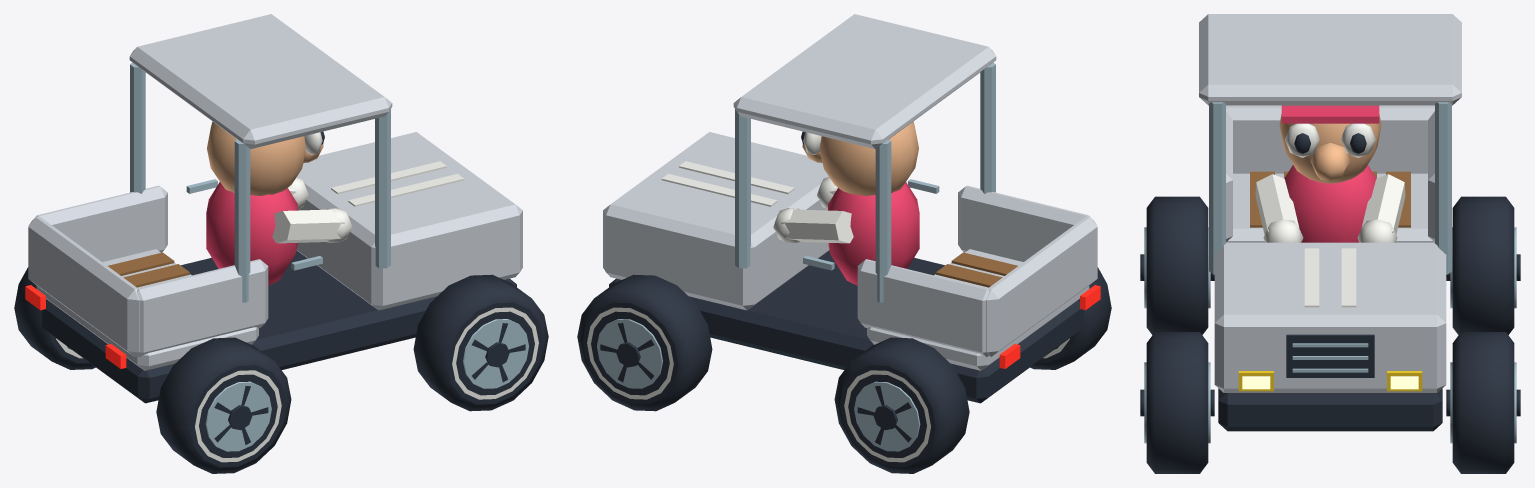
File: kart_1.glb
The picture shows the model from 3 angles, left to right: view 1: azimuth 30°, elevation 25°; view 2: azimuth 150°, elevation 25°; view 3: azimuth 270°, elevation 25°; orthographic projection. The views are drawn at different scales.
Parts seen in each view (by area): view 1: detail_Paint, detail_Rubber, wheel_rr, wheel_fr, detail_Chrome, detail_Coral, detail_Ivory, detail_Peach, wheel_rl, detail_Bed wood, detail_Tail light lens; view 2: detail_Paint, detail_Rubber, wheel_rl, wheel_fl, detail_Chrome, detail_Coral, detail_Ivory, detail_Peach, wheel_rr, detail_Bed wood, detail_Tail light lens; view 3: detail_Paint, detail_Rubber, wheel_fl, wheel_fr, wheel_rl, wheel_rr, detail_Ivory, detail_Coral, detail_Chrome, detail_Peach, detail_Bed wood, detail_Lemon (+1 smaller).
Part boxes in pixels (<box>): detail_Paint: <box>28,14,522,370</box>; detail_Rubber: <box>42,131,516,403</box>; wheel_rr: <box>156,337,291,473</box>; wheel_fr: <box>413,274,548,411</box>; detail_Chrome: <box>130,62,390,302</box>; detail_Coral: <box>206,182,297,285</box>; detail_Ivory: <box>272,132,464,243</box>; detail_Peach: <box>207,121,323,195</box>; wheel_rl: <box>14,267,95,369</box>; detail_Bed wood: <box>108,252,189,287</box>; detail_Tail light lens: <box>25,285,126,368</box>; detail_Paint: <box>603,14,1097,370</box>; detail_Rubber: <box>609,131,1083,403</box>; wheel_rl: <box>834,337,969,473</box>; wheel_fl: <box>577,274,712,411</box>; detail_Chrome: <box>735,62,995,302</box>; detail_Coral: <box>828,182,919,285</box>; detail_Ivory: <box>661,132,853,243</box>; detail_Peach: <box>802,121,918,195</box>; wheel_rr: <box>1030,267,1111,369</box>; detail_Bed wood: <box>936,252,1017,287</box>; detail_Tail light lens: <box>999,285,1100,368</box>; detail_Paint: <box>1199,14,1461,392</box>; detail_Rubber: <box>1218,133,1442,431</box>; wheel_fl: <box>1446,332,1520,473</box>; wheel_fr: <box>1140,332,1214,473</box>; wheel_rl: <box>1446,196,1520,334</box>; wheel_rr: <box>1140,196,1214,334</box>; detail_Ivory: <box>1255,123,1405,307</box>; detail_Coral: <box>1281,105,1379,242</box>; detail_Chrome: <box>1209,102,1451,372</box>; detail_Peach: <box>1279,114,1381,183</box>; detail_Bed wood: <box>1250,171,1410,227</box>; detail_Lemon: <box>1238,371,1422,391</box>.
Bounding box in the file's own units: 3.27 × 2.42 × 2.46.
